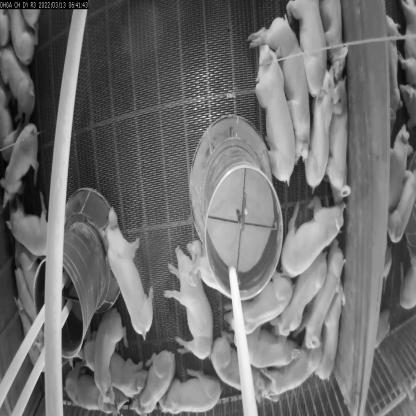Pig: (243, 0, 313, 181), (90, 195, 162, 340), (244, 30, 296, 203), (164, 219, 218, 359), (276, 179, 349, 274), (211, 319, 274, 415), (84, 326, 153, 399), (287, 0, 337, 97), (222, 276, 300, 337), (304, 52, 335, 201), (0, 113, 42, 207), (90, 300, 128, 403), (5, 188, 57, 263), (255, 352, 324, 408), (158, 362, 224, 416), (134, 332, 176, 416), (388, 108, 412, 217)
